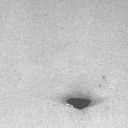iron sheet ash: (66, 98, 92, 110)
